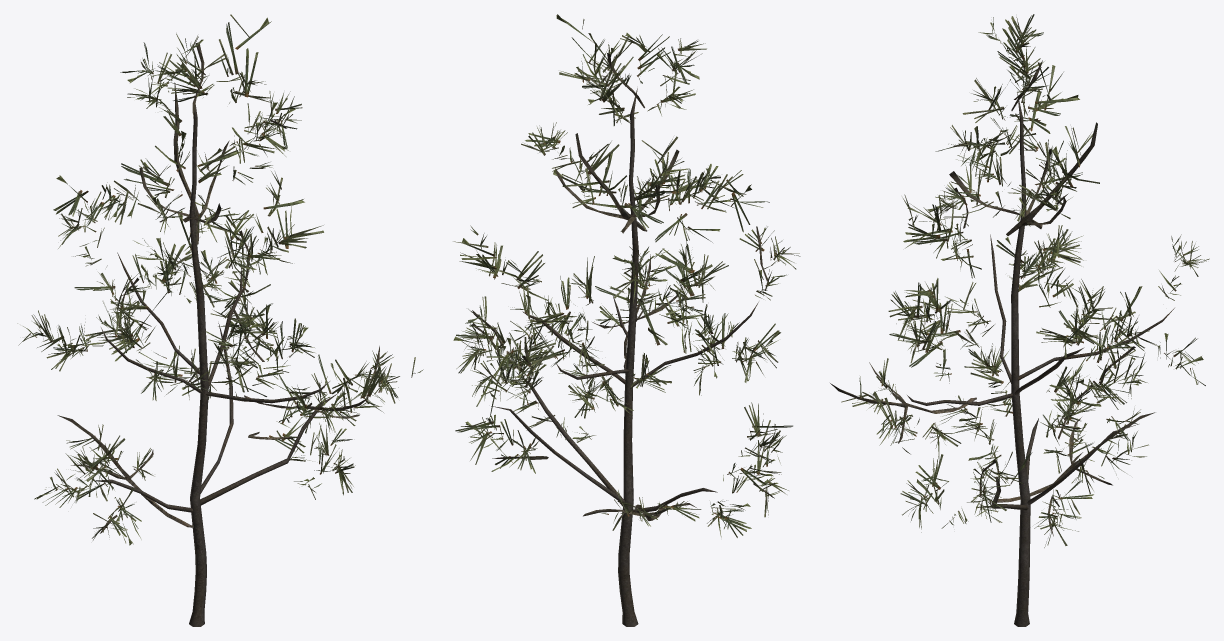
File: sapling-pine.glb
3 views of the same model, side by side, from view 1: azimuth 30°, elevation 25°; view 2: azimuth 150°, elevation 25°; view 3: azimuth 270°, elevation 25° (orthographic).
Visible parts, largest first — view 1: sapling-pine_LOD0; view 2: sapling-pine_LOD0; view 3: sapling-pine_LOD0.
Part boxes in pixels (x1,y1,x2,y2): sapling-pine_LOD0: (17, 14, 423, 626); sapling-pine_LOD0: (453, 14, 800, 626); sapling-pine_LOD0: (830, 14, 1209, 626).
Size of what is drawn, in the model's own units: 0.7844 by 1.3 by 0.7559.
2 materials, 2 textured.
